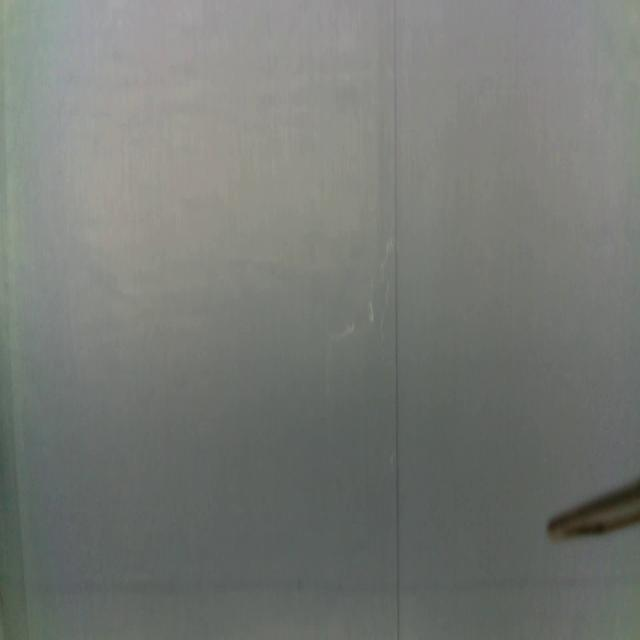color bleeding: (22, 566, 638, 616)
crease: (2, 58, 26, 552), (391, 1, 402, 640)
